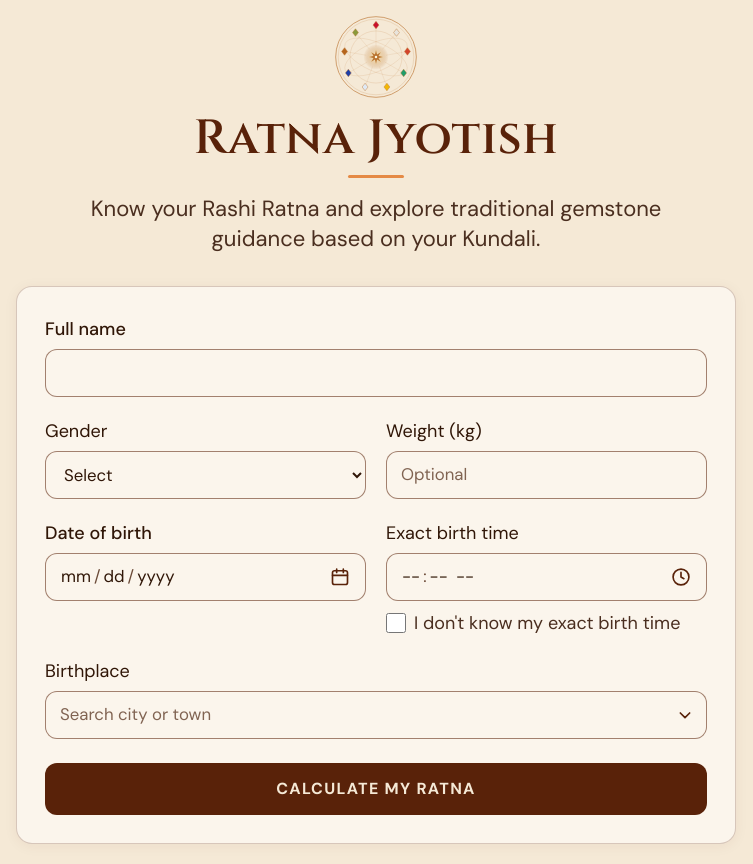
Test: Ratna Jyotish form › disables the time input when the birth time is unknown
What coordinates should you click on to do the following:
click the checkbox labelled "I don't know my exact birth time"
I would click on:
 (396, 623)
Its box is top-left (386, 613), bottom-right (406, 633).
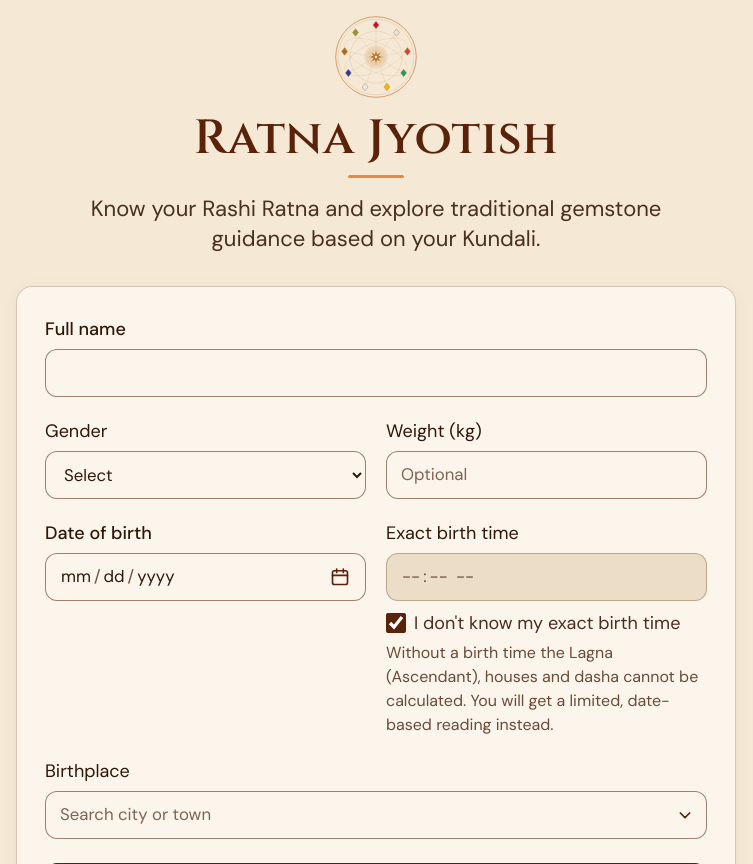
Check: the time field labelled "Exact birth time" is disabled, box top-left (386, 553), bottom-right (707, 601)
